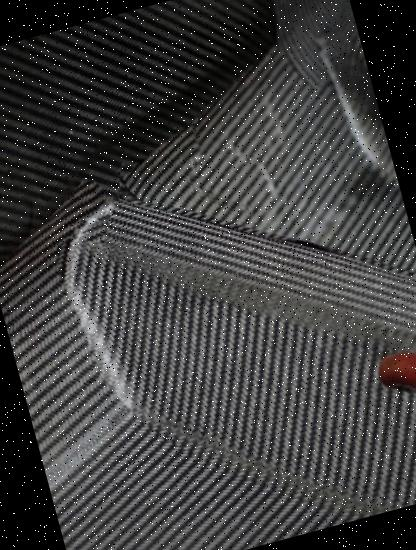Nectarine: (371, 336, 416, 409)
